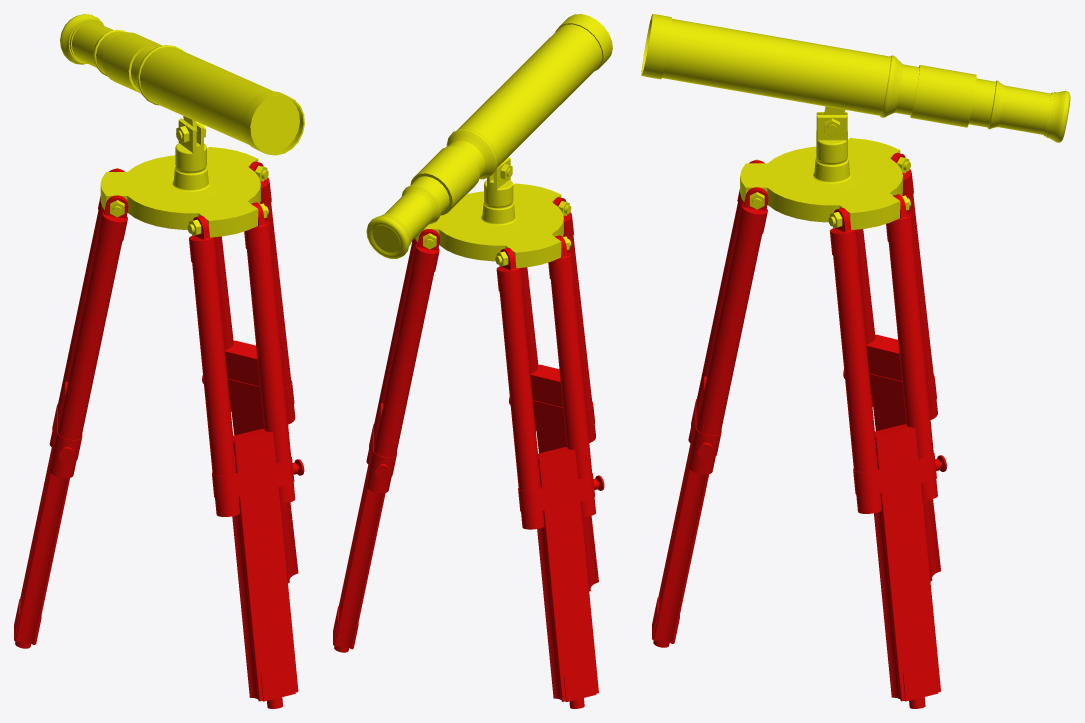
Rendered from Telescope.fbx.
3 views of the same model, side by side, from view 1: azimuth 30°, elevation 25°; view 2: azimuth 150°, elevation 25°; view 3: azimuth 270°, elevation 25° (orthographic). The views are drawn at different scales.
Parts seen in each view (by area): view 1: Foot, Top; view 2: Foot, Top; view 3: Foot, Top.
Boxes of the visible parts, <box> form: Foot: <box>14,161,304,708</box>; Top: <box>60,14,304,237</box>; Foot: <box>333,197,604,708</box>; Top: <box>366,14,612,268</box>; Foot: <box>652,153,946,708</box>; Top: <box>641,14,1070,230</box>.
Size of the model in its own units: 0.4993 by 1.04 by 0.645.
